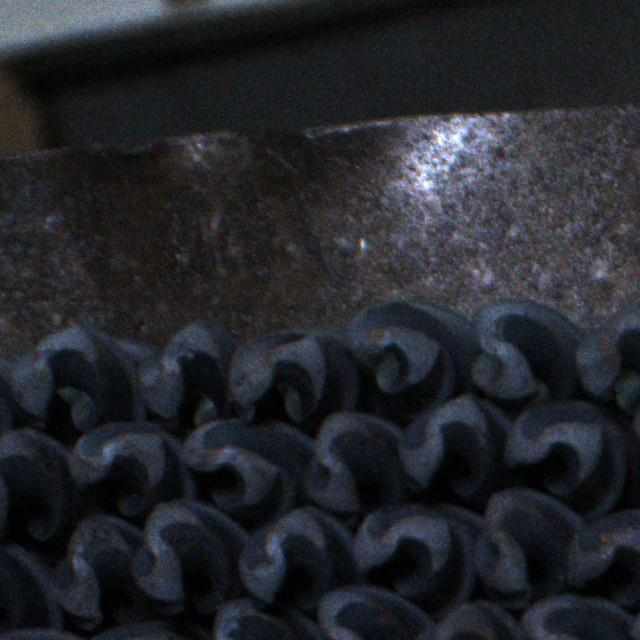tool_b: (504, 398, 640, 515), (346, 302, 481, 419), (8, 328, 147, 432), (352, 504, 484, 613), (130, 501, 252, 617), (177, 418, 313, 514), (138, 318, 258, 426), (476, 492, 586, 608), (66, 423, 199, 518), (468, 300, 587, 406), (240, 508, 363, 609), (398, 394, 518, 497), (225, 330, 358, 420), (49, 514, 149, 628), (300, 410, 405, 515), (0, 428, 75, 542), (314, 586, 435, 640), (567, 511, 640, 593), (576, 317, 640, 409), (0, 541, 60, 635), (515, 595, 635, 640), (208, 600, 329, 640), (417, 602, 526, 640)
